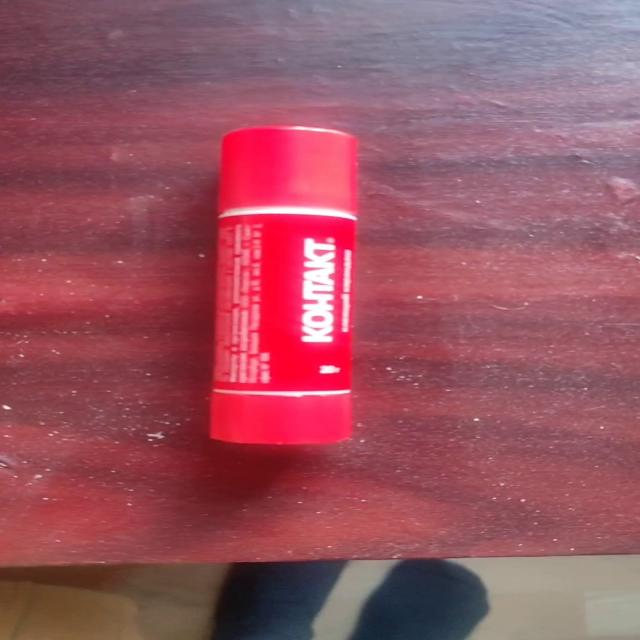glue: (207, 125, 359, 445)
